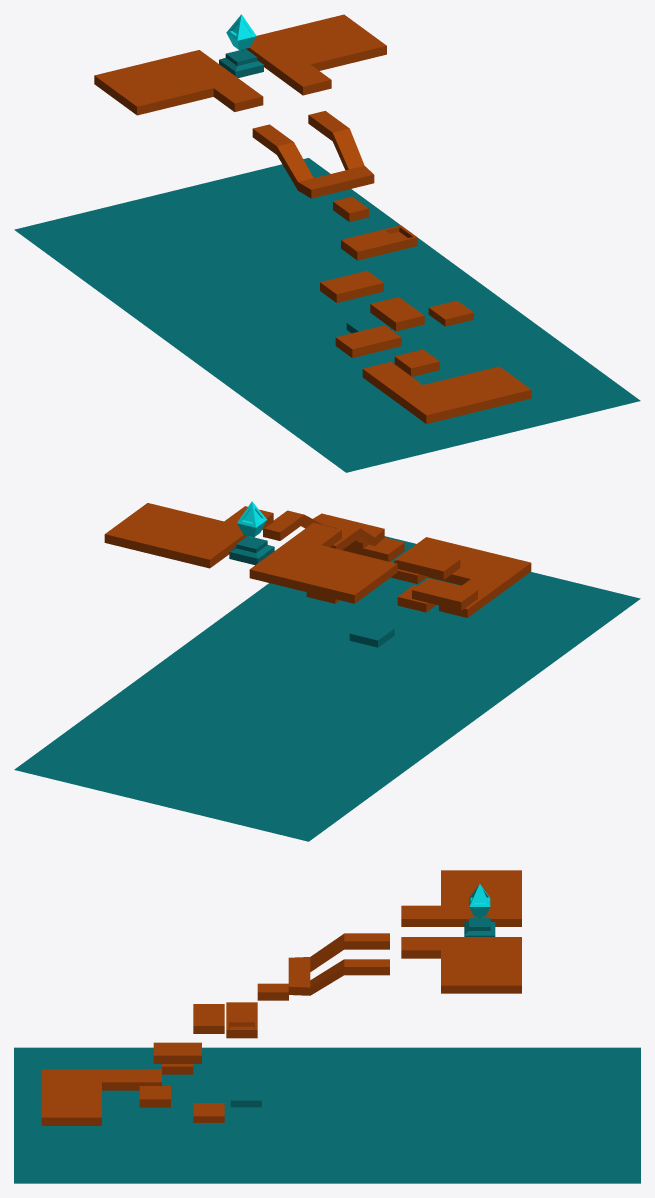
File: Level 1.fbx
3 views of the same model, one above another, from view 1: azimuth 30°, elevation 25°; view 2: azimuth 150°, elevation 25°; view 3: azimuth 270°, elevation 25° (orthographic). The views are drawn at different scales.
Parts seen in each view (by area): view 1: Plane, Cube.010, Cube.078, Cube, Cube.006, Cube.009, Cube.003, Cube.005, Cube.004, Cube.079, Cube.011, Cube.001 (+6 smaller); view 2: Plane, Cube.010, Cube.078, Cube, Cube.003, Cube.005, Cube.011, Cube.002, Cube.006, Cube.081, Cube.009, Cube.012; view 3: Plane, Cube.078, Cube.010, Cube, Cube.006, Cube.004, Cube.005, Cube.009, Cube.081, Cube.082, Cube.001, Cube.002 (+6 smaller).
Part boxes in pixels (box(x1,y1,x2,y2)): Plane: box(14, 158, 640, 472); Cube.010: box(94, 50, 263, 115); Cube.078: box(246, 14, 386, 95); Cube: box(362, 362, 531, 423); Cube.006: box(341, 225, 417, 260); Cube.009: box(298, 166, 374, 198); Cube.003: box(335, 325, 401, 357); Cube.005: box(320, 271, 383, 302); Cube.004: box(370, 297, 424, 331); Cube.079: box(277, 142, 313, 189); Cube.011: box(219, 49, 263, 77); Cube.001: box(394, 349, 439, 376); Plane: box(14, 536, 640, 841); Cube.010: box(249, 523, 397, 603); Cube.078: box(104, 503, 273, 568); Cube: box(394, 537, 531, 617); Cube.003: box(412, 578, 477, 610); Cube.005: box(396, 548, 460, 580); Cube.011: box(229, 536, 274, 565); Cube.002: box(349, 621, 394, 647); Cube.006: box(342, 537, 404, 561); Cube.081: box(263, 510, 304, 540); Cube.009: box(313, 513, 384, 545); Cube.012: box(237, 501, 266, 538); Plane: box(14, 1047, 640, 1183); Cube.078: box(401, 937, 521, 993); Cube.010: box(401, 870, 521, 926); Cube: box(41, 1069, 161, 1125); Cube.006: box(226, 1002, 257, 1038); Cube.004: box(153, 1042, 201, 1063); Cube.005: box(193, 1004, 224, 1033); Cube.009: box(288, 957, 310, 995); Cube.081: box(344, 959, 389, 975); Cube.082: box(344, 933, 389, 949); Cube.001: box(139, 1086, 170, 1107); Cube.002: box(230, 1087, 261, 1107).
Bounding box in the file's own units: 5811 × 4585 × 11341.
